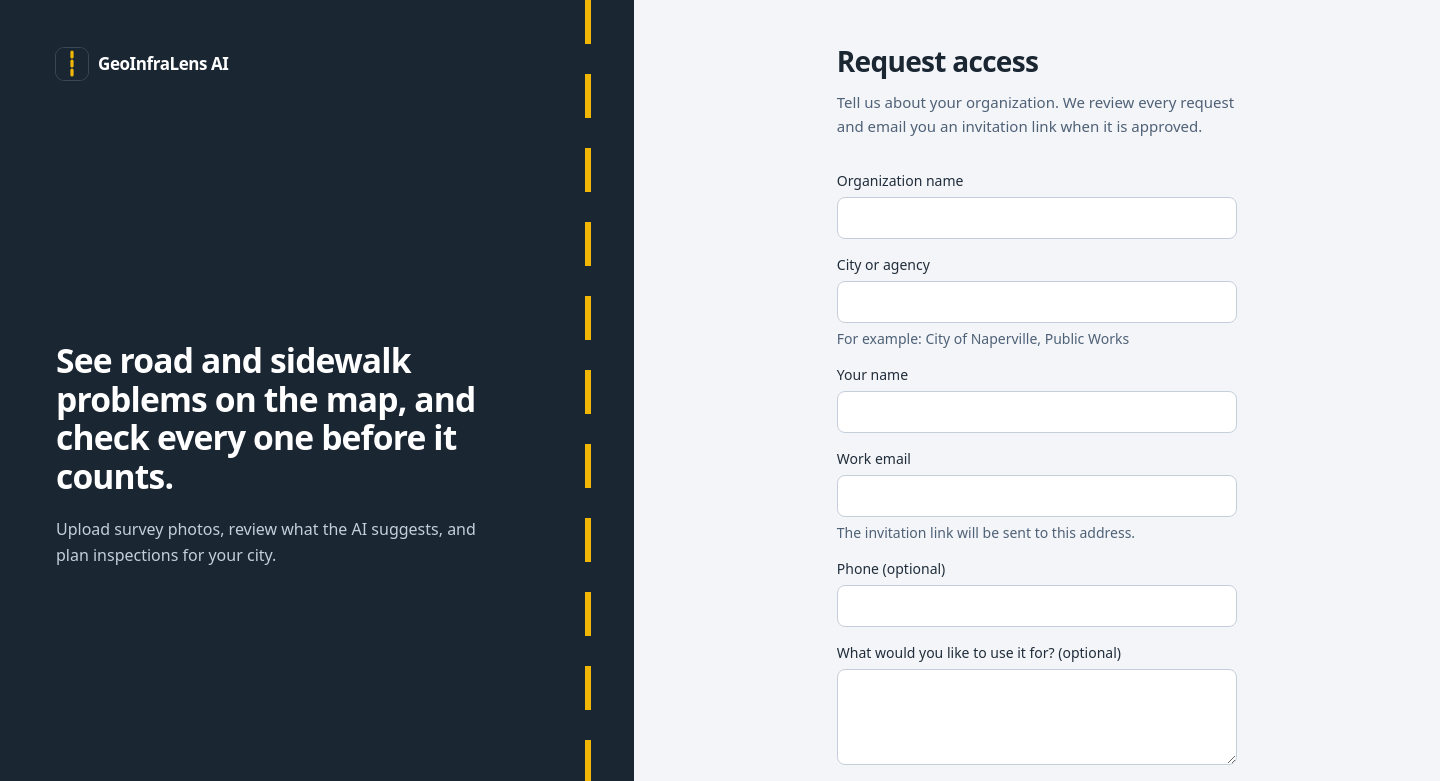
Scenario: Request access (CR-004) › sends the request and says what happens next (no password asked)
Type "Naperville Public Works" into the field labelled "Organization name".
click(1037, 218); type("Naperville Public Works")  # box [837,197,1237,239]
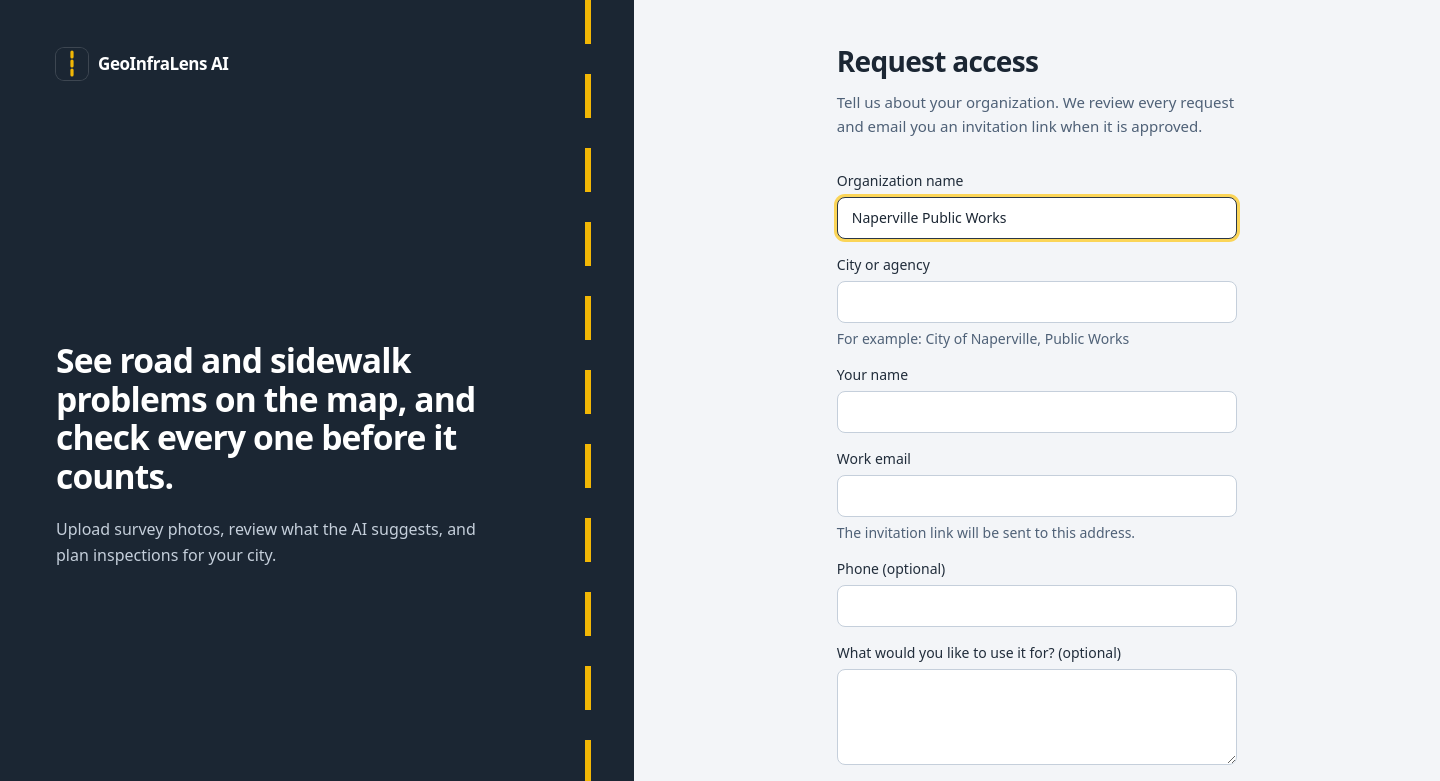
Type "City of Naperville" into the field labelled "City or agency".
click(1037, 302); type("City of Naperville")  # box [837,281,1237,323]
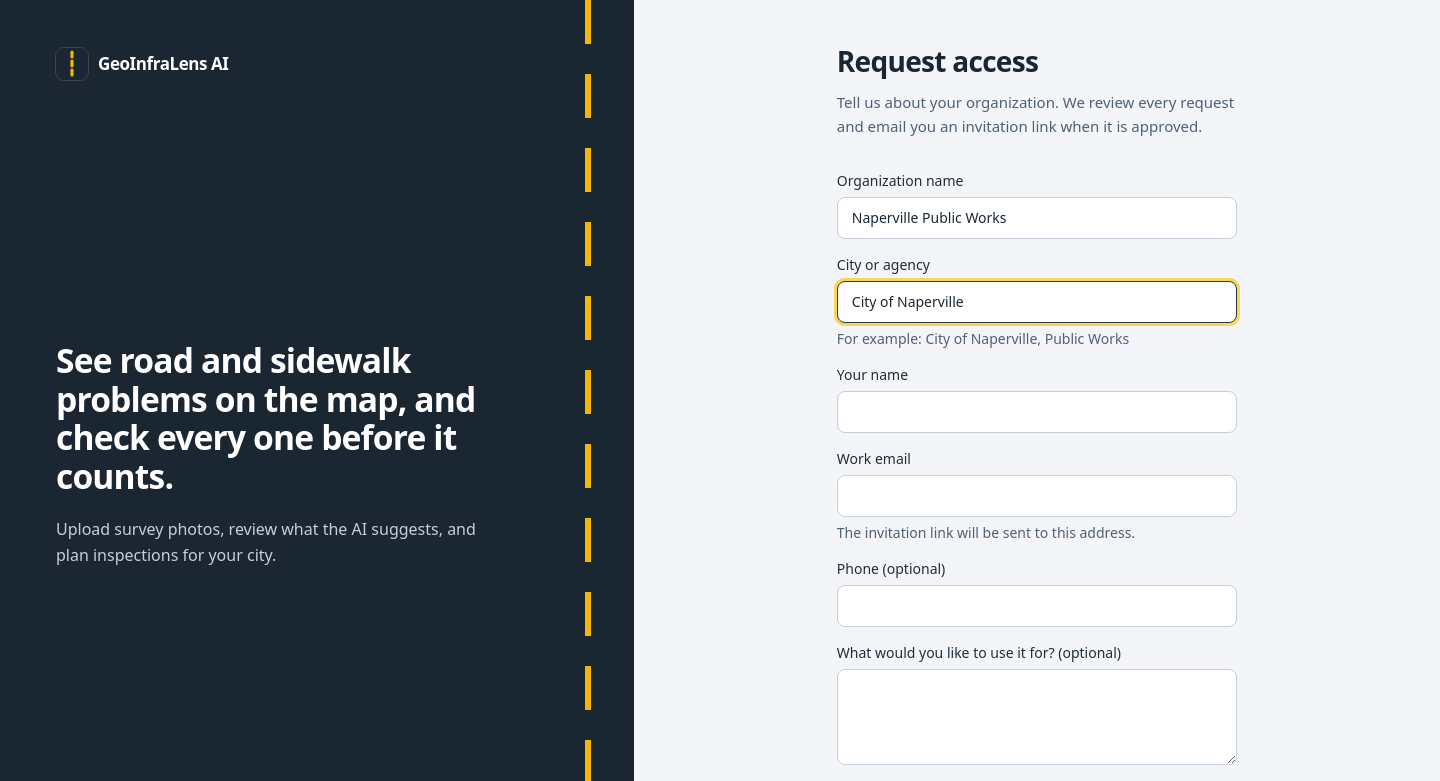
Type "Pat Rivera" into the field labelled "Your name".
click(1037, 412); type("Pat Rivera")  # box [837,391,1237,433]
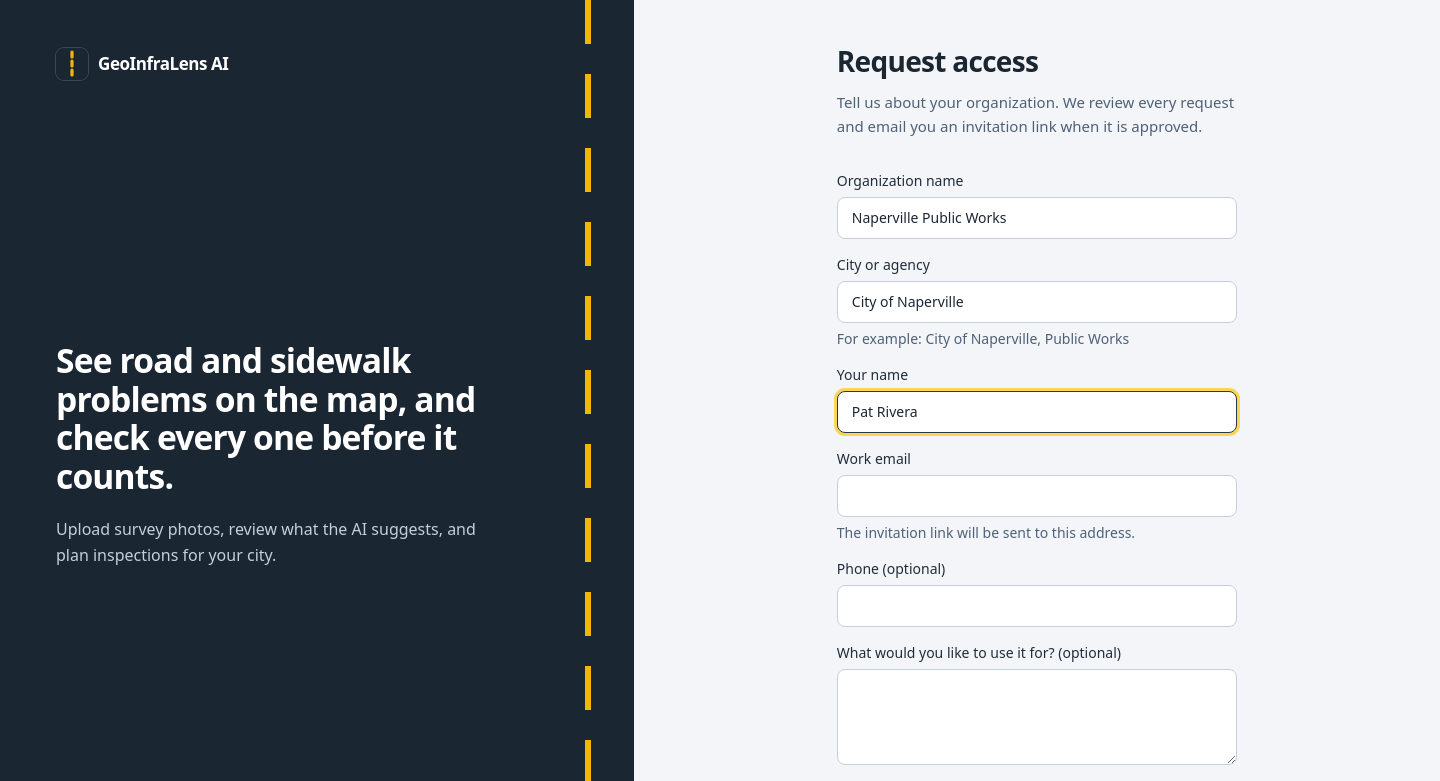
Type "pat@naperville.test" into the field labelled "Work email".
click(1037, 496); type("pat@naperville.test")  # box [837,475,1237,517]
(page scrolled)
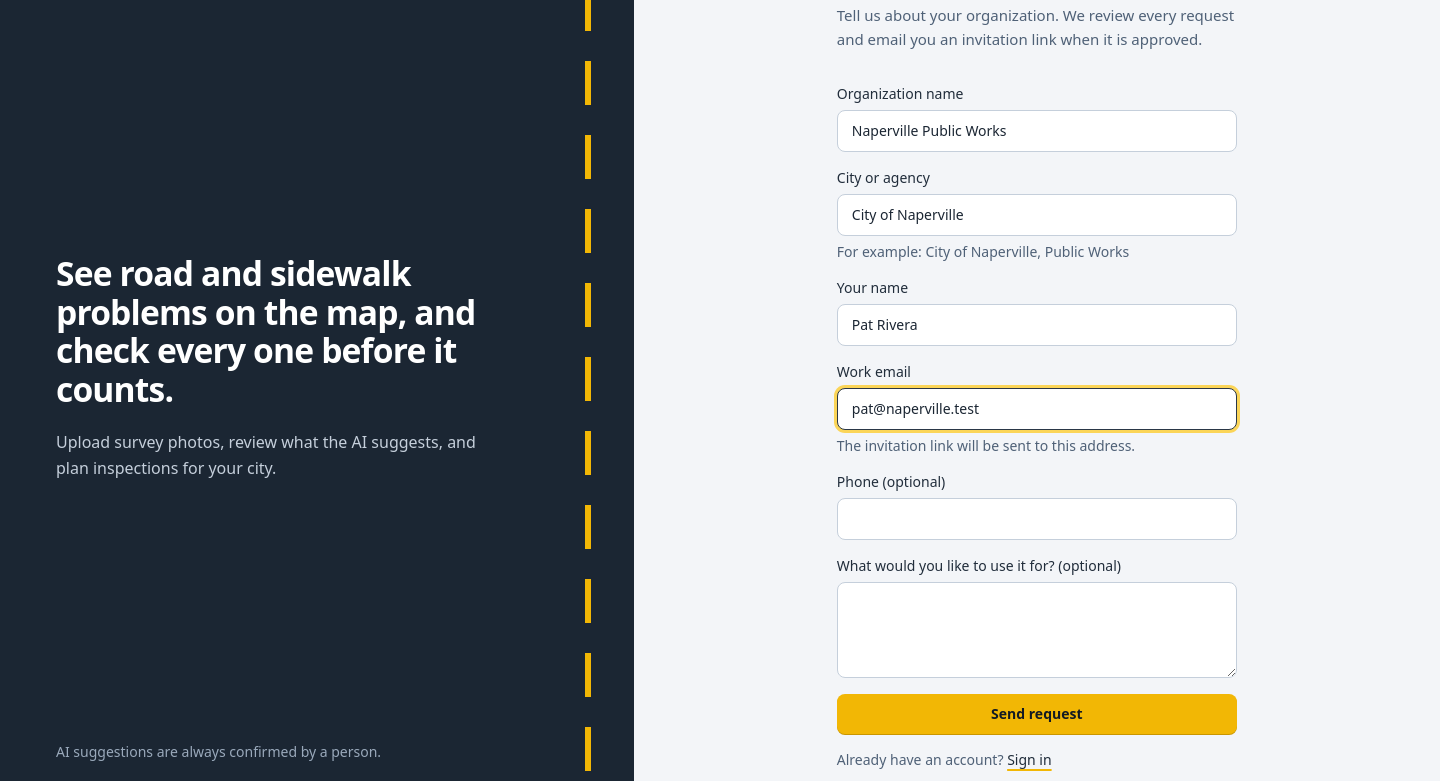
Click the button "Send request".
click(1037, 714)  # box [837,694,1237,734]
(page scrolled)
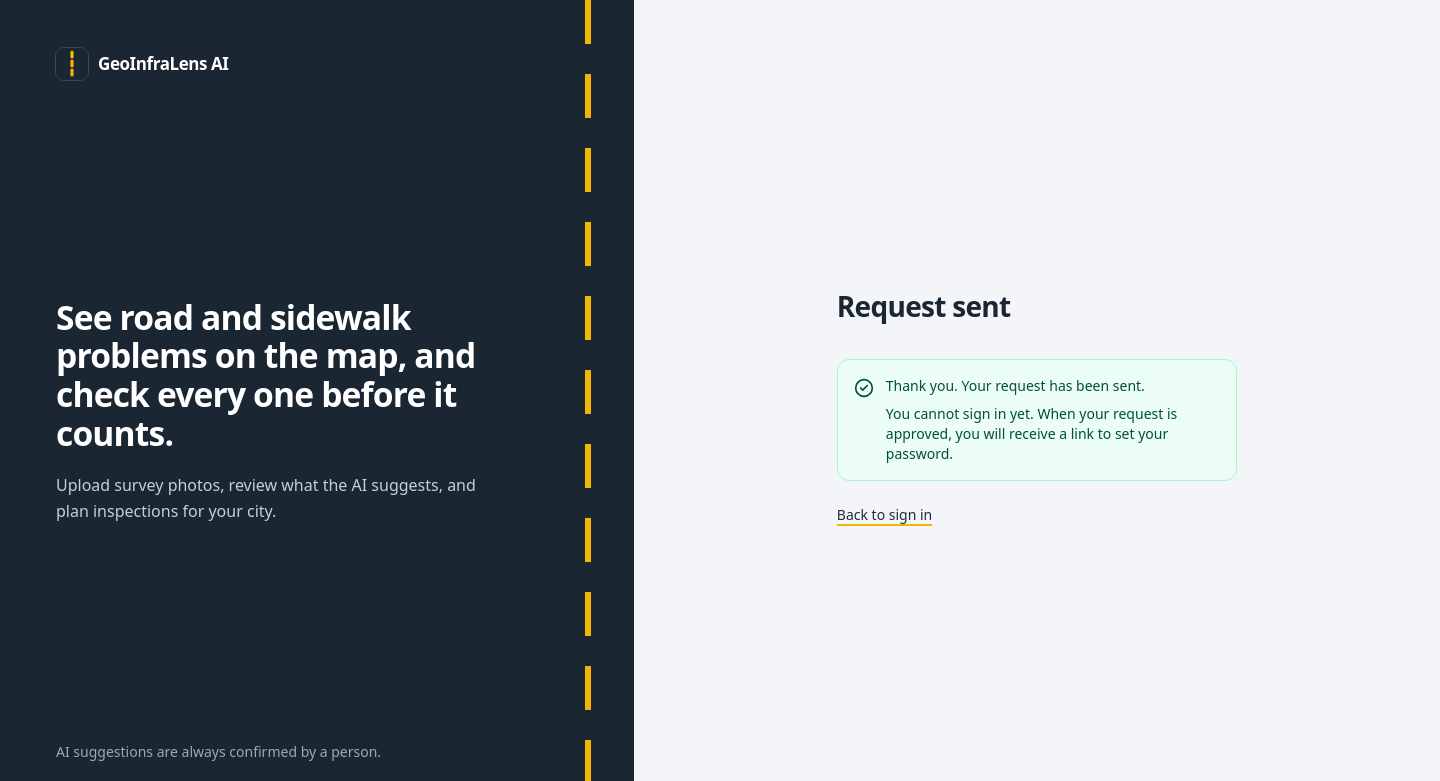
Result: the text "Thank you. Your request has been sent." is shown at [886,376,1145,394]
Result: the text "You cannot sign in yet" is shown at [886,404,1177,462]
